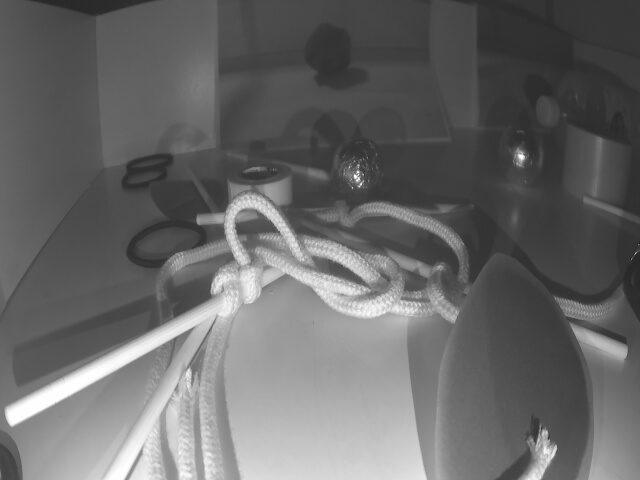Live: (335, 142, 387, 201), (499, 123, 545, 183)
